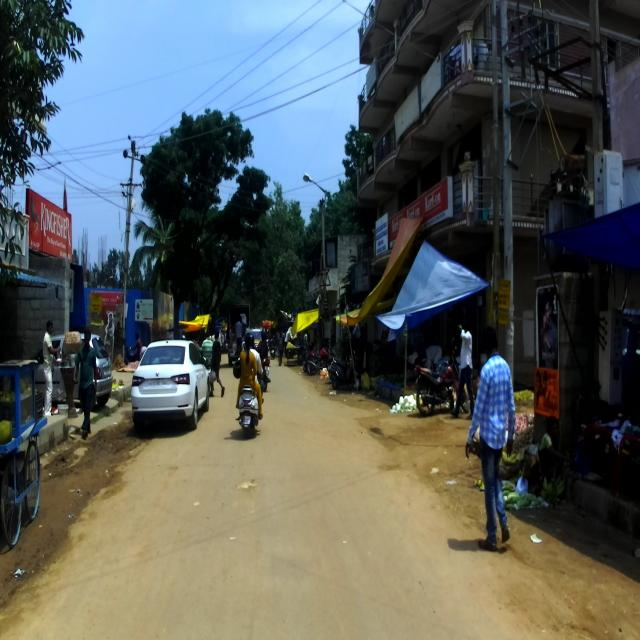Car_Hyundai: (30, 331, 112, 408)
Car_Skoda: (130, 340, 210, 432)
motorcycle_Hero: (414, 337, 473, 416)
scooter: (235, 353, 266, 438)
